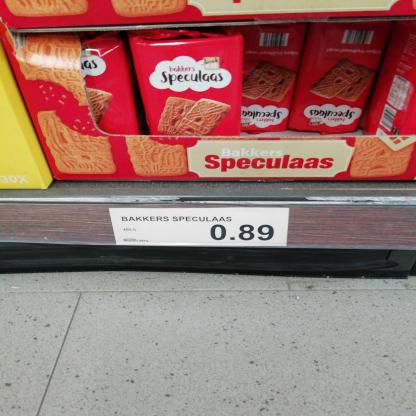prtg: (110, 209, 291, 248)
